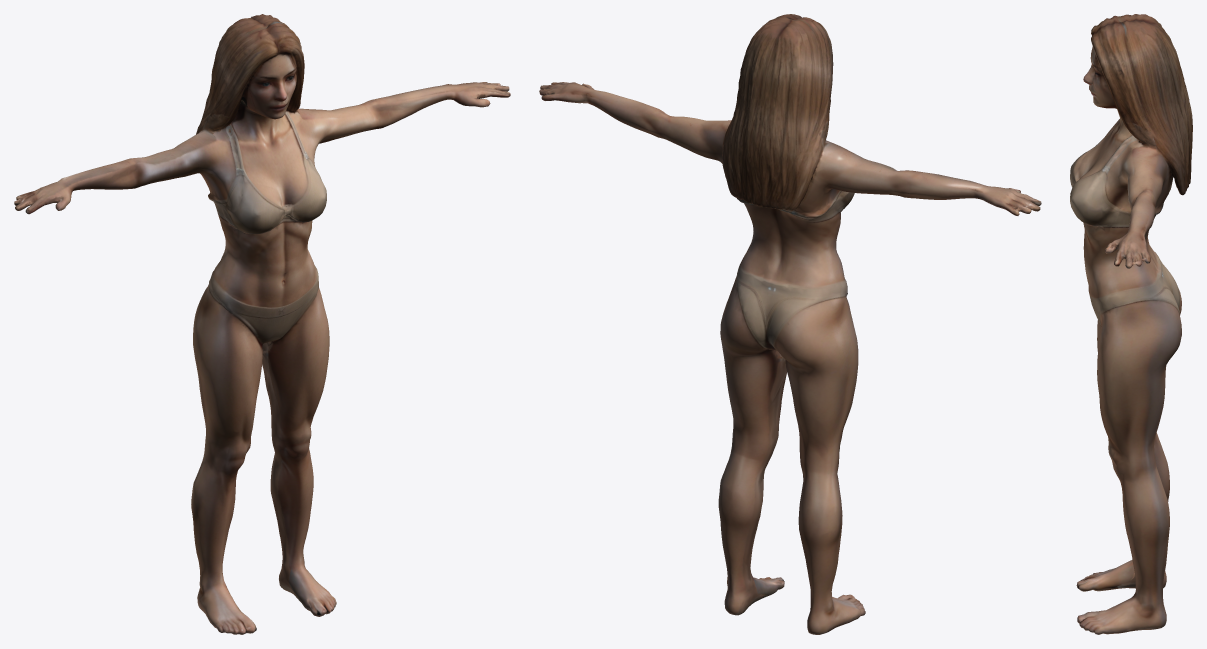
3 renders of one model, left to right at view 1: azimuth 30°, elevation 25°; view 2: azimuth 150°, elevation 25°; view 3: azimuth 270°, elevation 25°, orthographic.
Size of the model in its own units: 1.76 by 2 by 0.379.
1 material, 1 textured.
